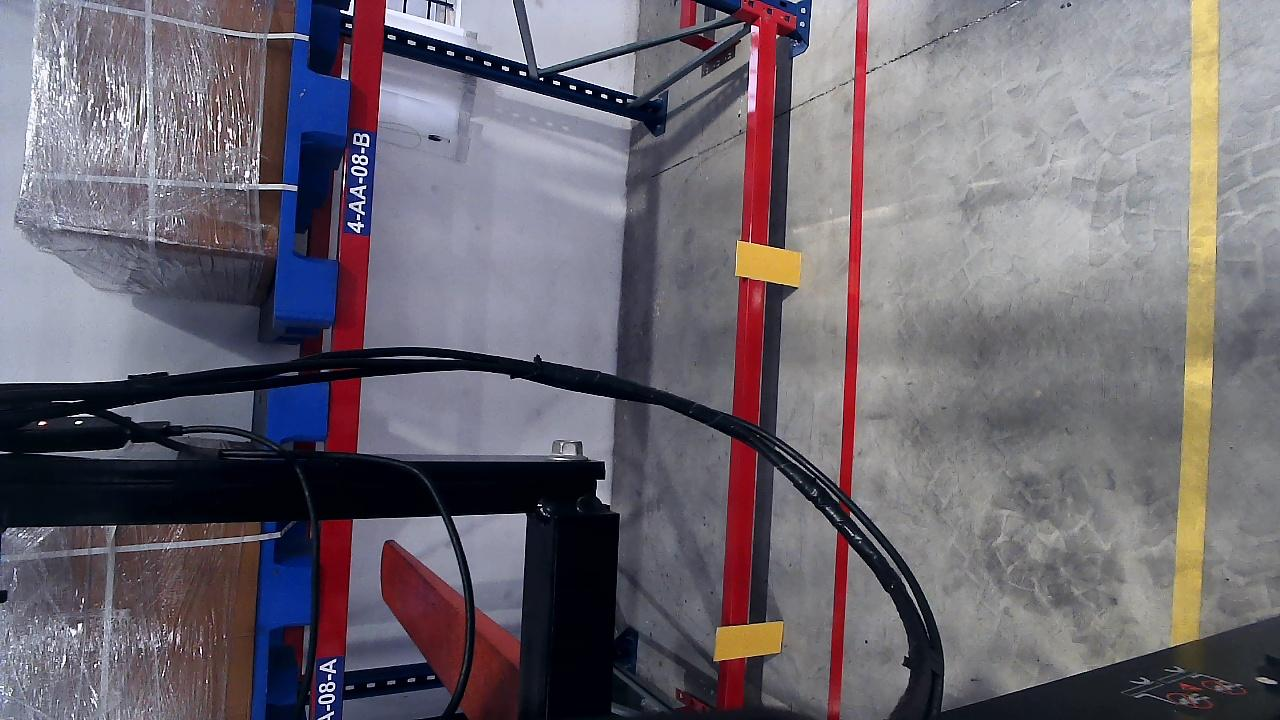h_rack: (720, 30, 774, 712), (327, 0, 390, 429), (312, 433, 360, 716)
orange_strip: (735, 241, 801, 287), (715, 621, 784, 661)
red_line: (835, 10, 869, 626)
small_pallet: (268, 1, 361, 322), (247, 448, 327, 717)
yellow_line: (1173, 62, 1221, 650)
